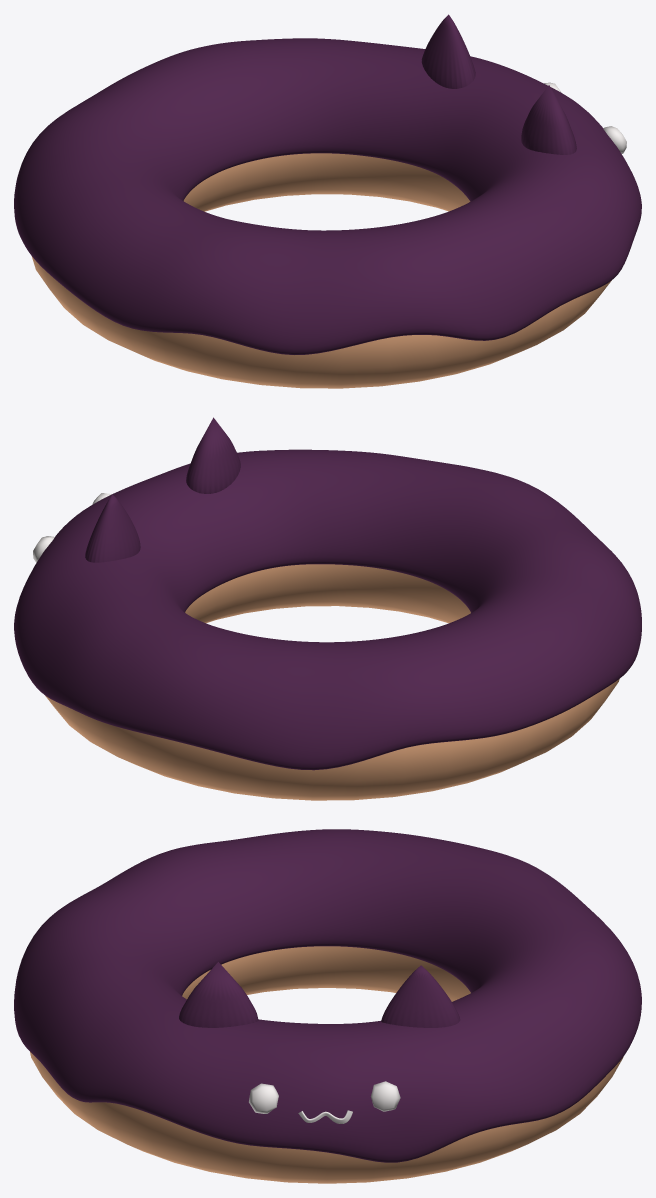
File: catdonut_black_fbx_2.fbx
3 views of the same model, one above another, from view 1: azimuth 30°, elevation 25°; view 2: azimuth 150°, elevation 25°; view 3: azimuth 270°, elevation 25° (orthographic).
Visible parts, largest first — view 1: Torus.001, Torus.003, Cone.001, Cone; view 2: Torus.001, Torus.003, Cone, Cone.001; view 3: Torus.001, Torus.003, Cone, Cone.001, Cube, Cube.001.
Part boxes in pixels (x1,y1,x2,y2): Torus.001: (14, 38, 641, 354); Torus.003: (31, 153, 611, 388); Cone.001: (421, 14, 475, 88); Cone: (521, 85, 576, 154); Torus.001: (14, 449, 641, 770); Torus.003: (45, 564, 619, 800); Cone: (186, 417, 240, 493); Cone.001: (85, 494, 140, 562); Torus.001: (14, 829, 641, 1162); Torus.003: (30, 946, 623, 1183); Cone: (179, 962, 258, 1027); Cone.001: (381, 965, 460, 1027); Cube: (249, 1083, 278, 1113); Cube.001: (370, 1081, 400, 1111).
Bounding box in the file's own units: 565 × 198 × 563.
